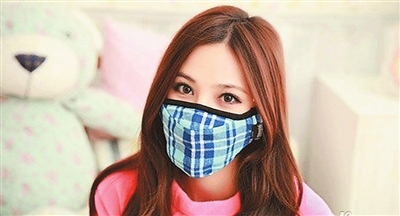face_mask: (163, 53, 251, 175)
